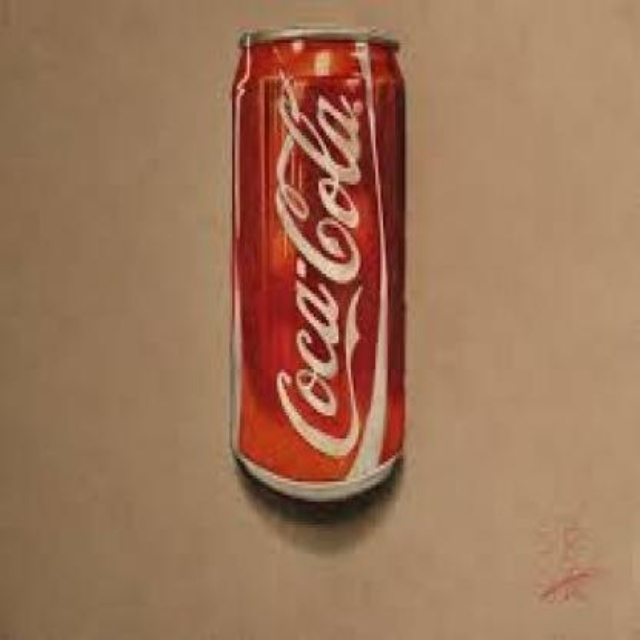trash: (232, 28, 403, 500)
